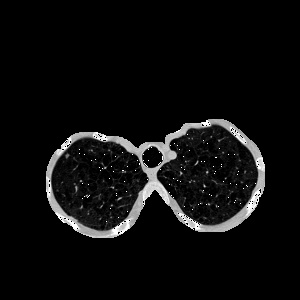PN: (65, 153, 69, 157)
